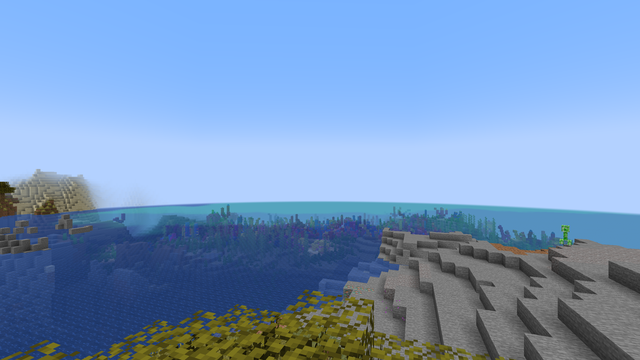creepers: (559, 224, 571, 245)
